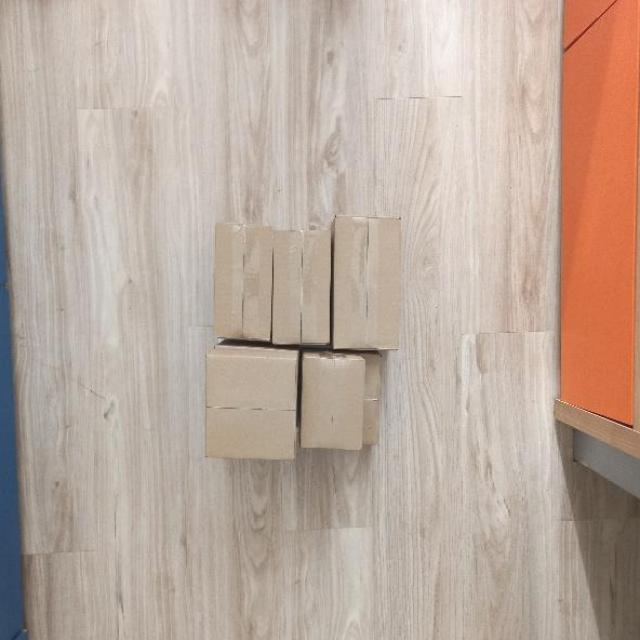box: (202, 348, 302, 460), (330, 218, 406, 353), (205, 219, 275, 345), (269, 227, 335, 345), (299, 354, 367, 454)
